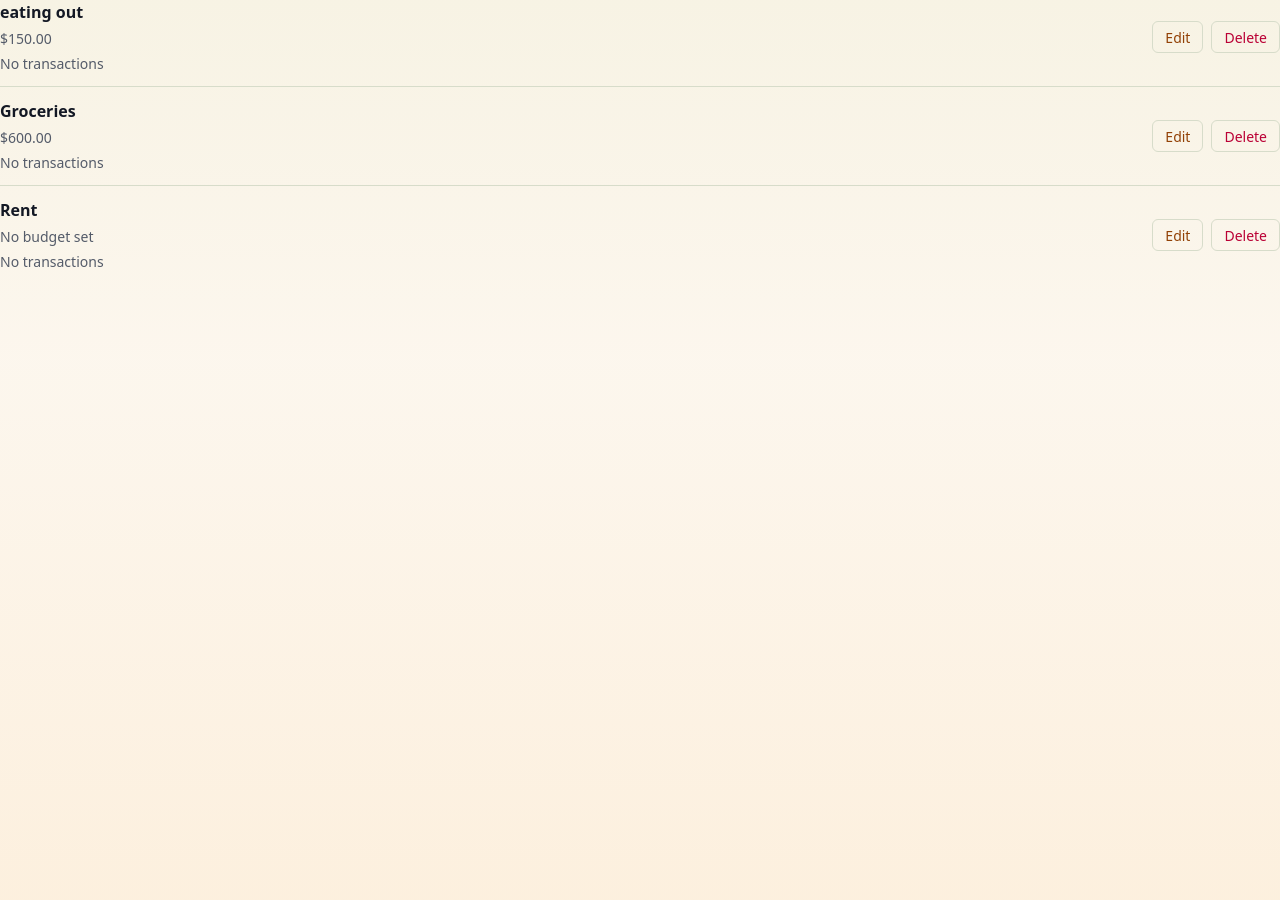
Test: CategoryList › renames a category, re-sorts the list, saves and announces it
The image size is (1280, 900).
Click the button with aria-label "Edit Groceries, $600.00". click: (1178, 136)
box: [1152,120,1204,152]
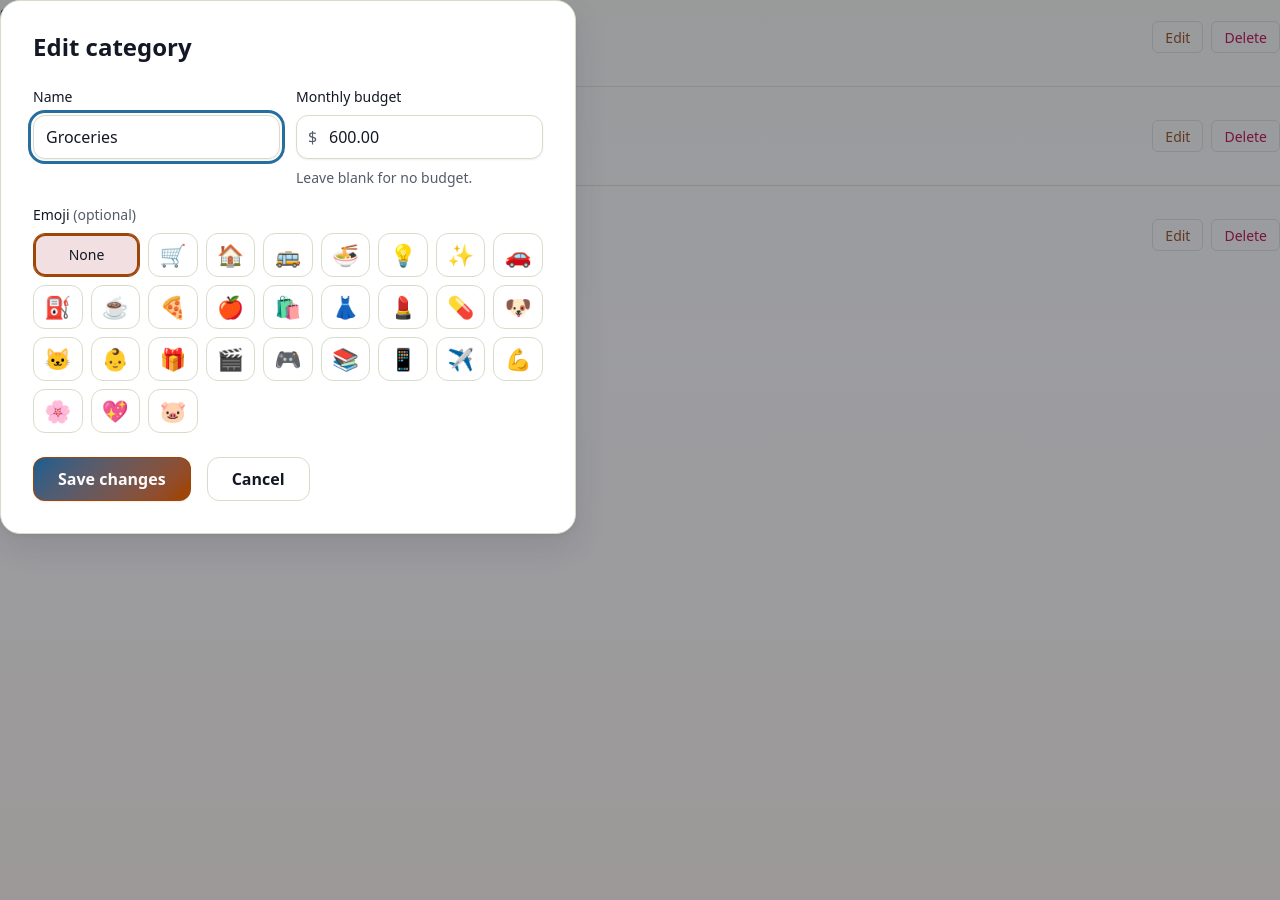
Replace the text in the field labelled "Name" with "Supermarket". click: (156, 137)
box: [33,115,280,159]
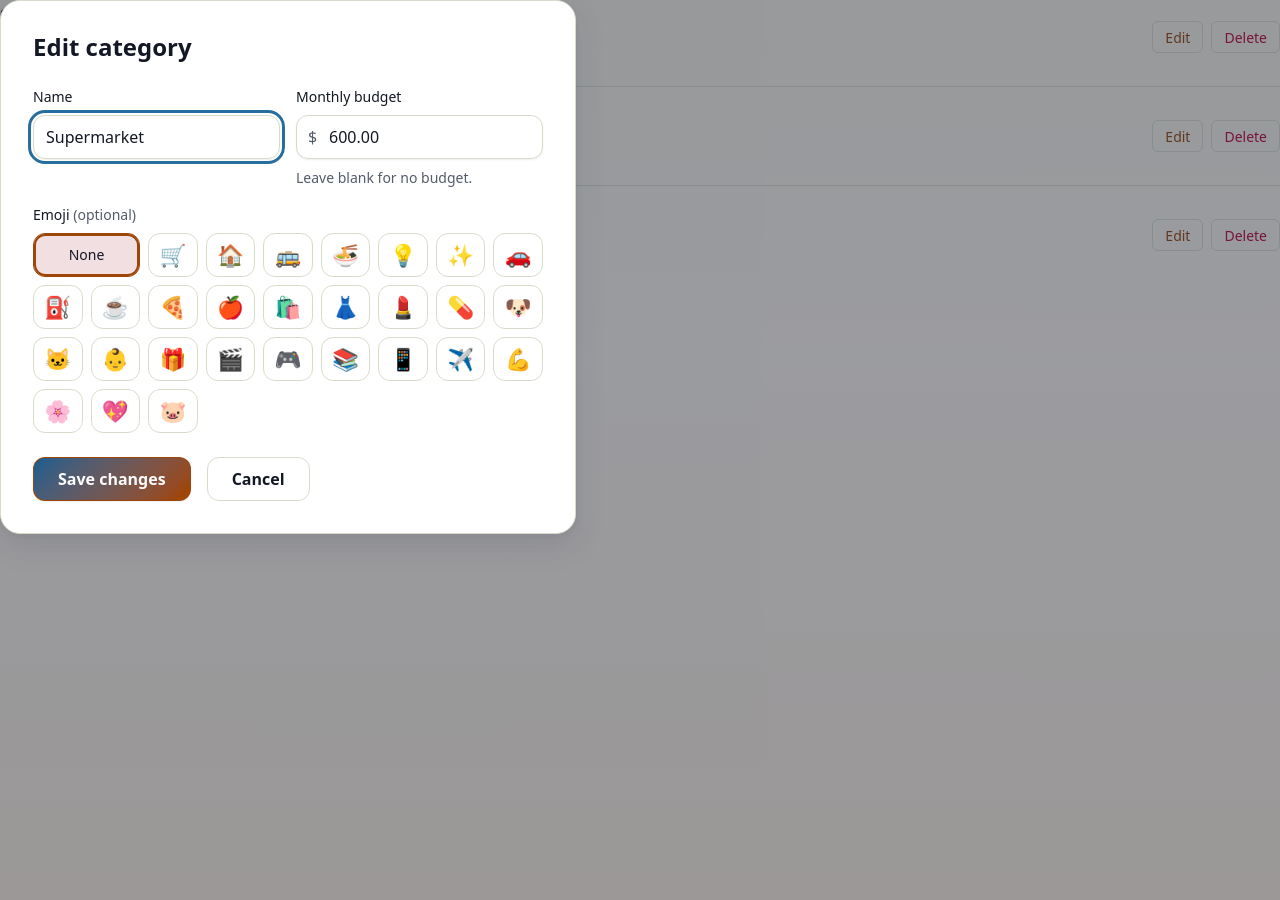
Click the button "Save changes". click: (112, 479)
box: [33,457,191,501]
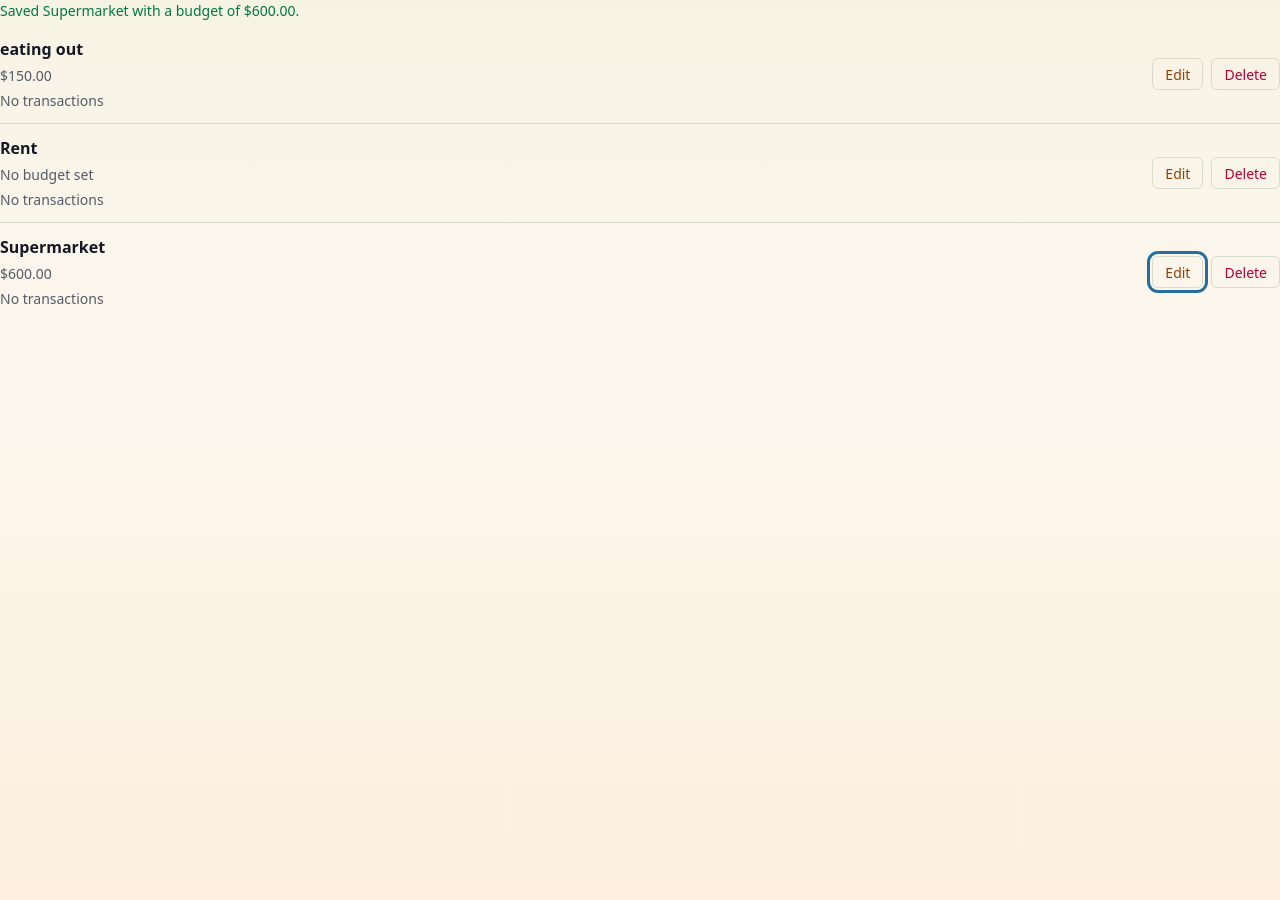
Check: the dialog is gone
Check: the list item "Supermarket $600.00 No transactions Edit Delete" is shown, box [0,222,1279,309]
Check: the message reads "Saved Supermarket with a budget of $600.00.", box [0,1,299,20]
